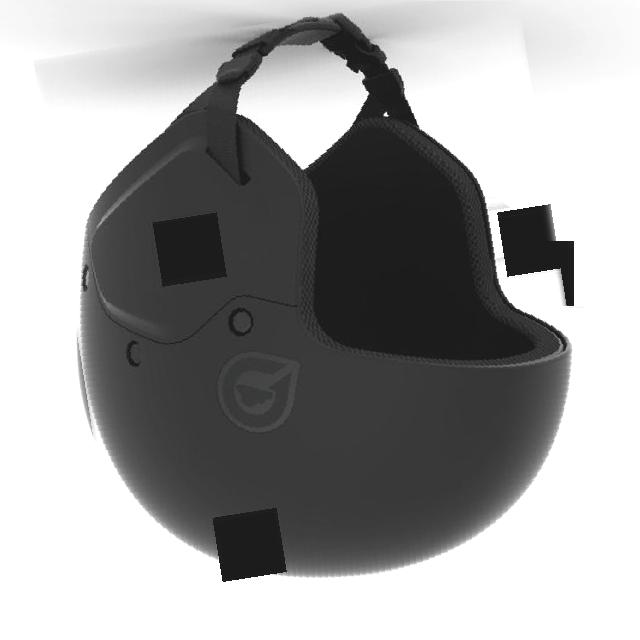helmet: (55, 1, 583, 597)
